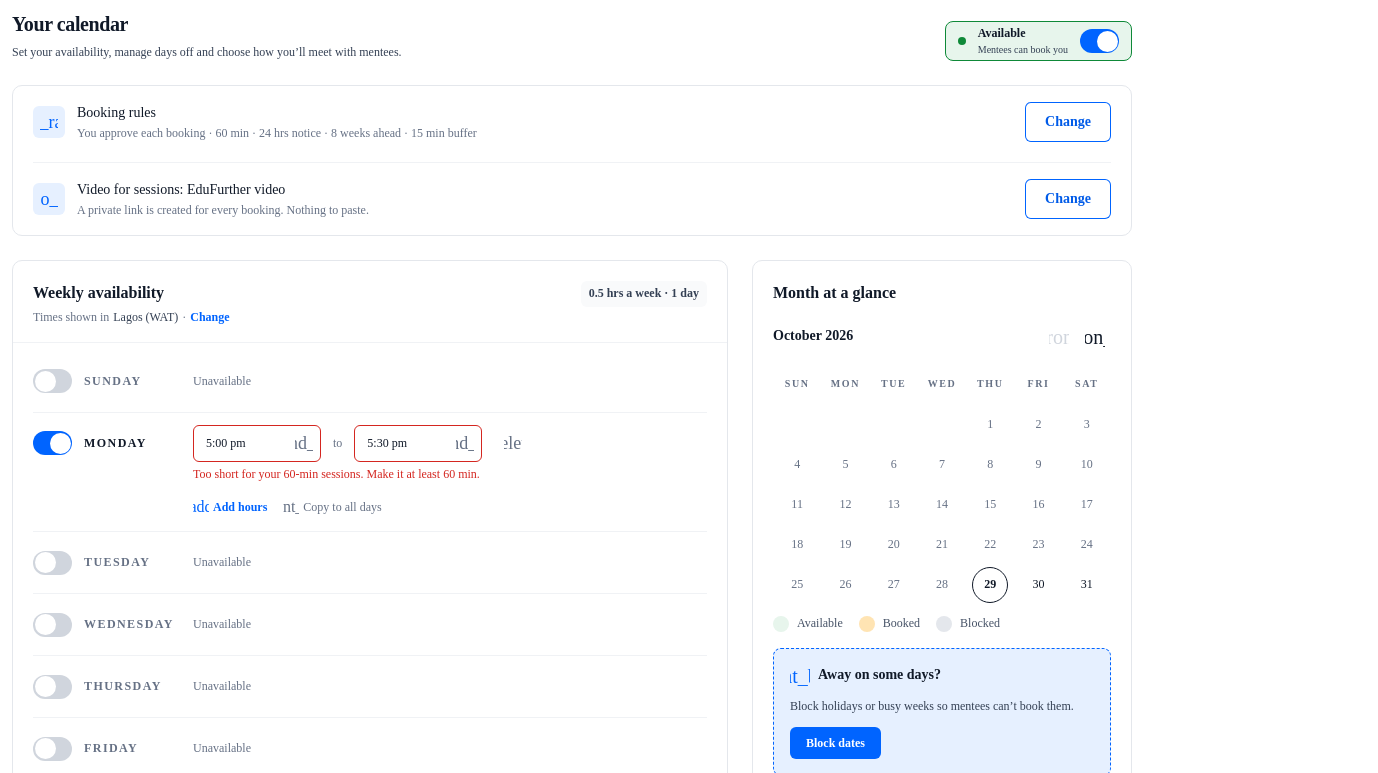
Test: CalendarScreen › won’t save hours too short for a session, and says why
What coordinates should you click on to do the following:
click the switch named "Tuesday" next to "Tuesday"
I would click on:
 (52, 563)
Its box is [33,551,72,575].
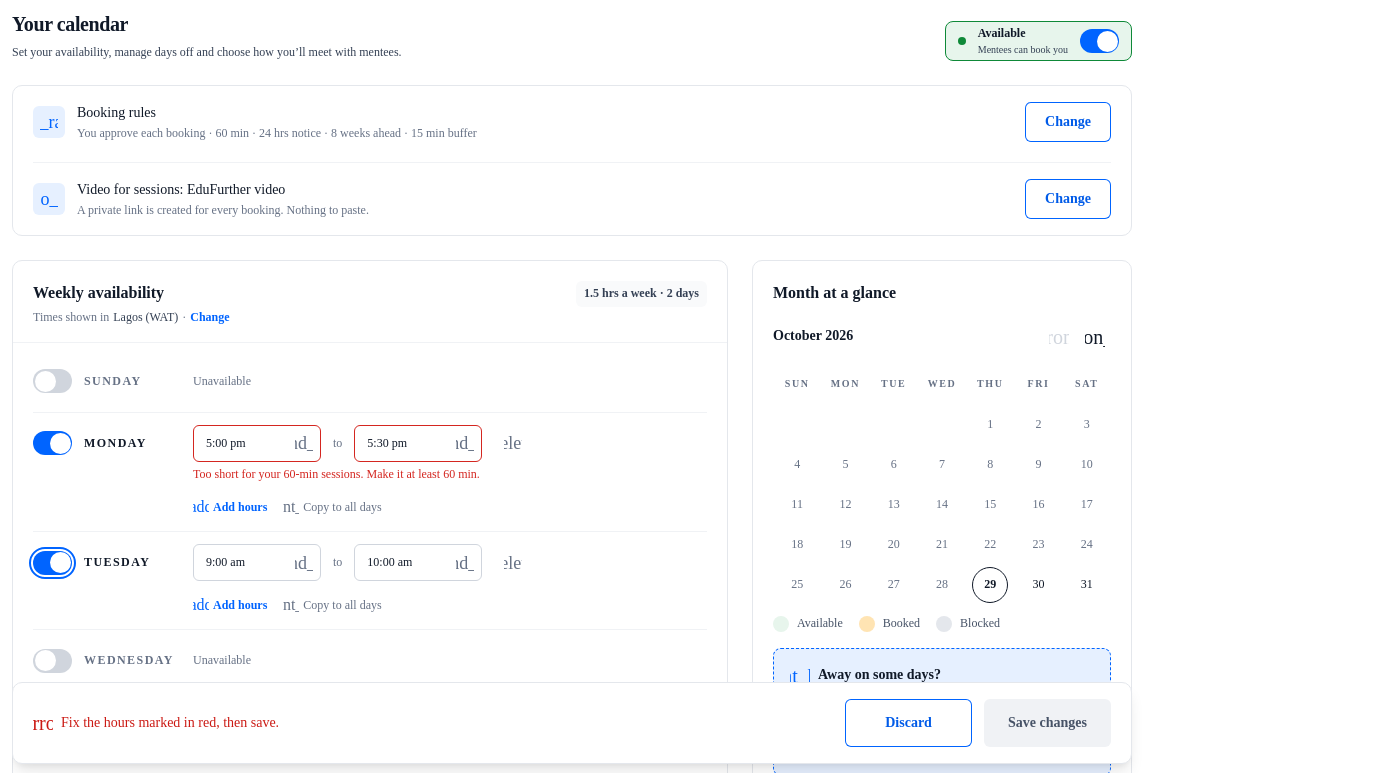
Result: the message shows "Fix the hours marked in red, then save." at [61,715,279,730]
Result: the button "Save changes" is disabled at [984,699,1111,747]
